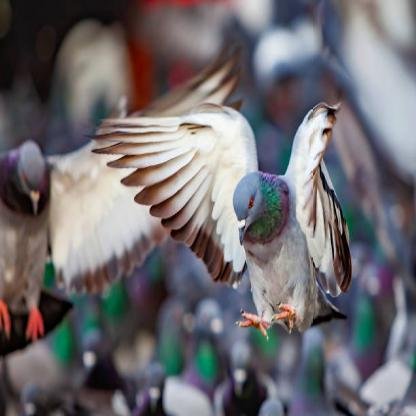Flying Rat: (1, 51, 247, 330), (127, 122, 386, 338)
